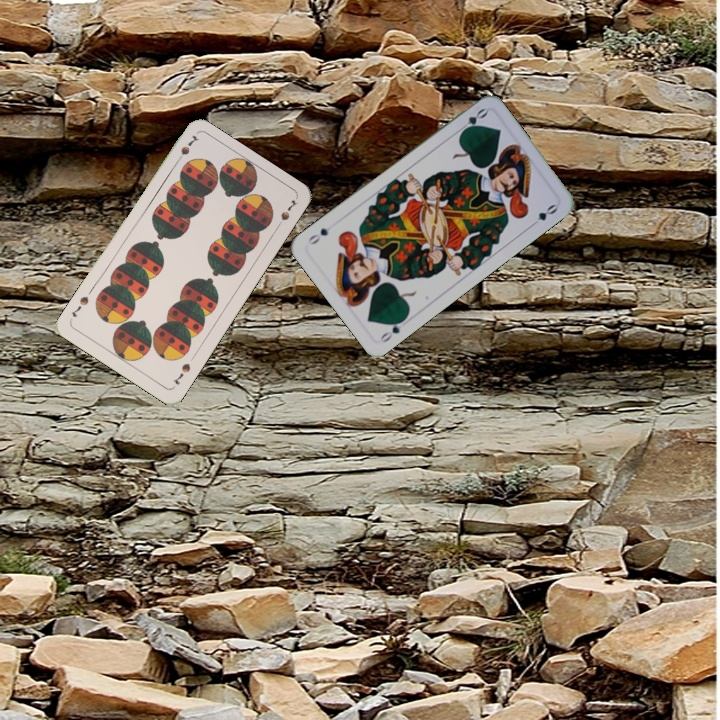GO: (454, 104, 490, 137), (376, 313, 409, 345)
S7: (171, 131, 201, 167), (169, 359, 193, 387)
